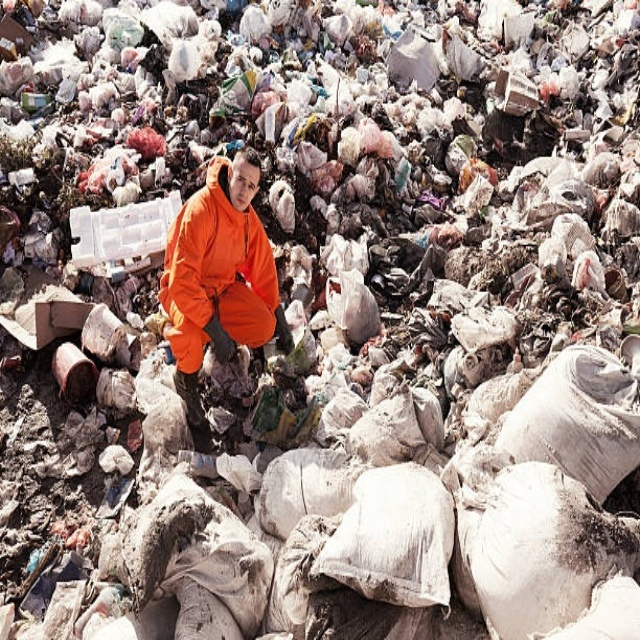Guantes: (203, 312, 236, 365), (271, 304, 295, 356)
Sin_gafas: (232, 171, 259, 192)
Sin_mascara: (233, 191, 251, 210)
